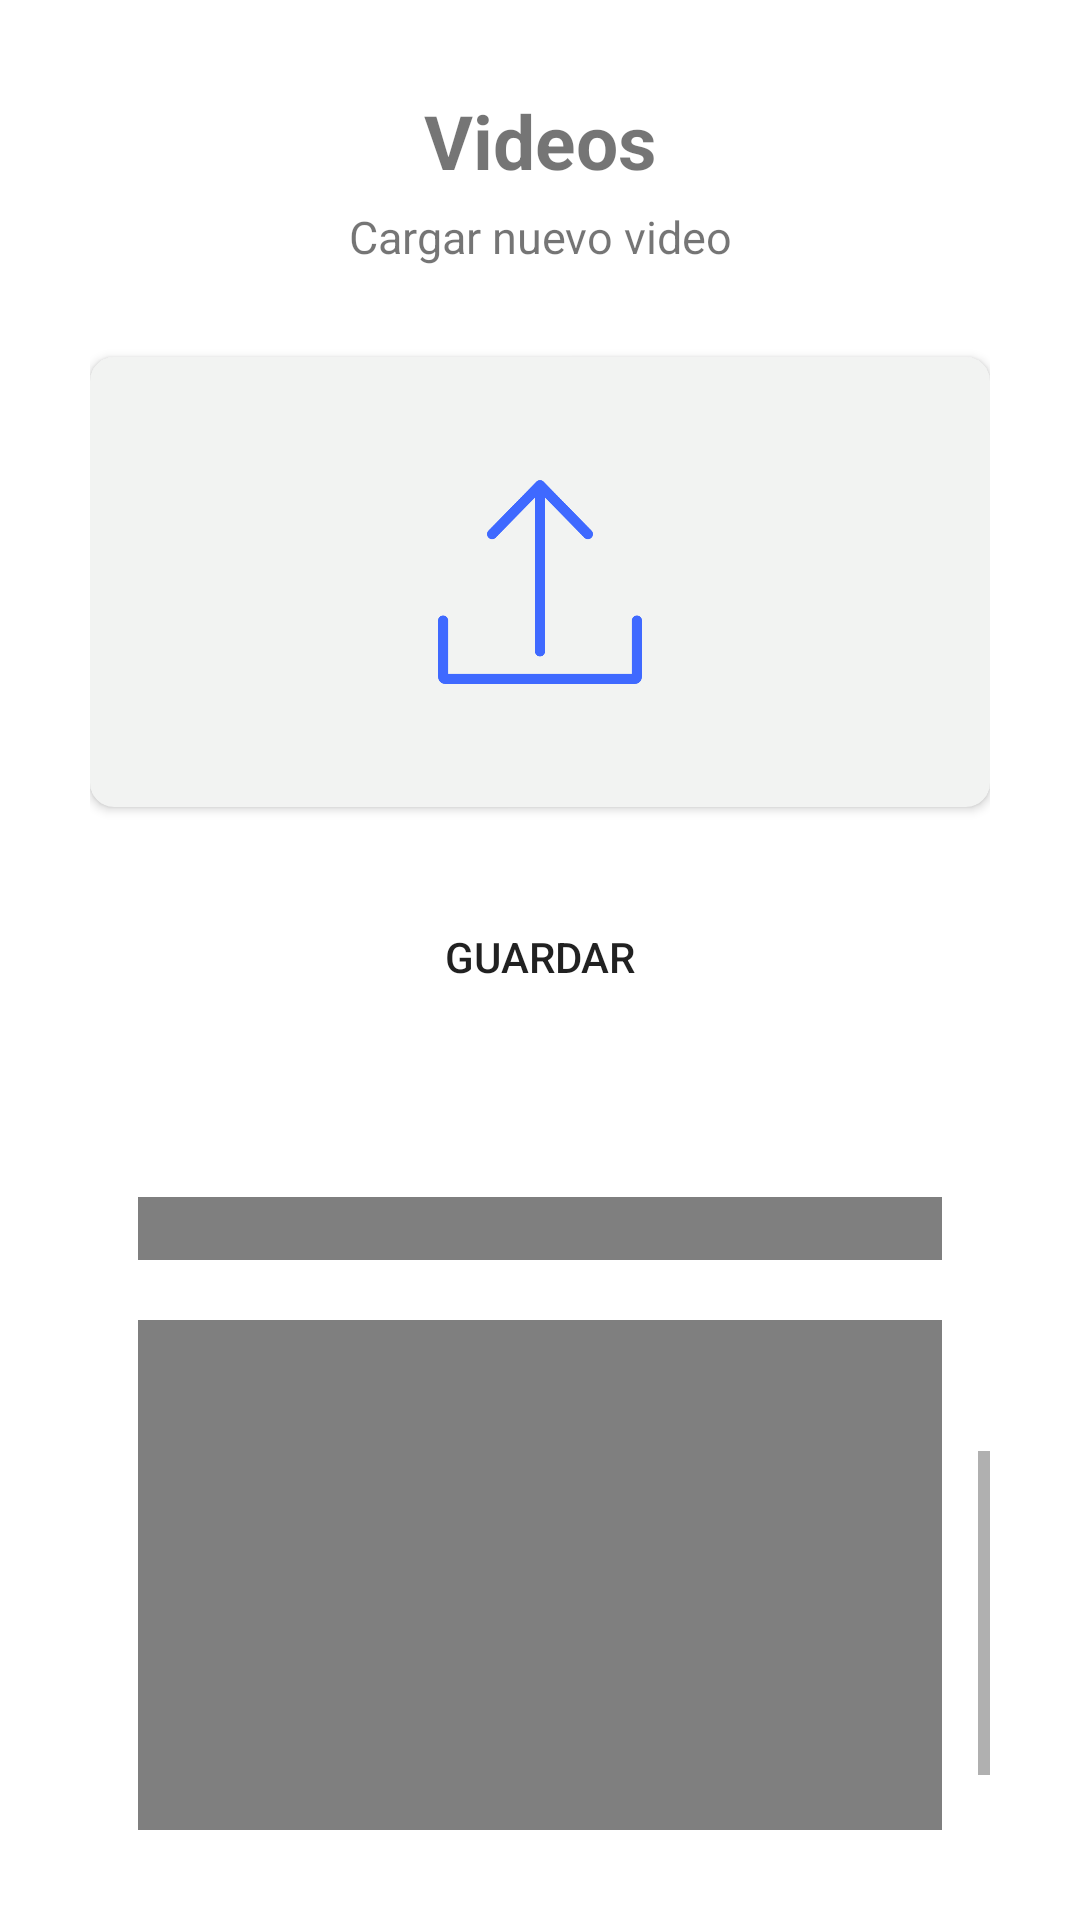

Icons on this 1080x1920 Android screen, each with its box as (x1, y1, x2, y2):
upload: (438, 480, 642, 684)
